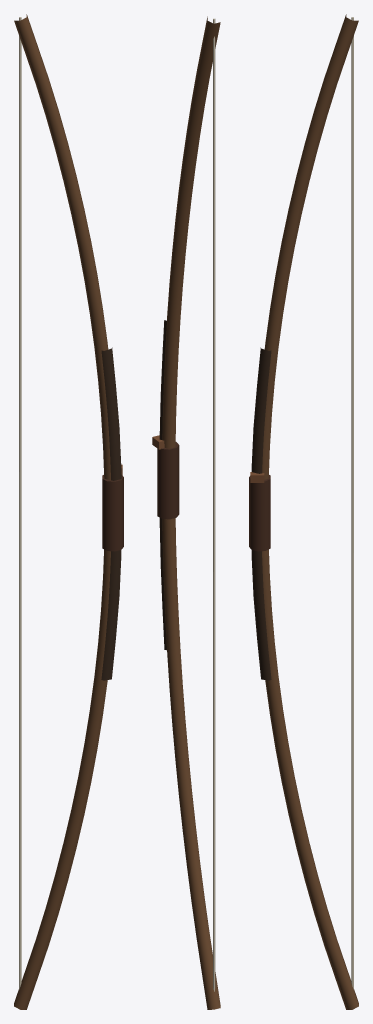
The model's file is longbow.glb.
3 views of the same model, side by side, from view 1: azimuth 90°, elevation 25°; view 2: azimuth 210°, elevation 25°; view 3: azimuth 270°, elevation 25° (orthographic).
Parts seen in each view (by area): view 1: longbow-limb, longbow-limb-belly, longbow-string, longbow-grip-wrap; view 2: longbow-limb, longbow-string, longbow-grip-wrap, longbow-limb-belly; view 3: longbow-limb, longbow-limb-belly, longbow-string, longbow-grip-wrap.
Part boxes in pixels (x1,y1,x2,y2): longbow-limb: (14, 14, 110, 1009); longbow-limb-belly: (101, 347, 121, 680); longbow-string: (19, 17, 21, 989); longbow-grip-wrap: (102, 475, 123, 551); longbow-limb: (162, 16, 220, 1009); longbow-string: (213, 18, 215, 991); longbow-grip-wrap: (157, 442, 179, 519); longbow-limb-belly: (159, 320, 178, 650); longbow-limb: (262, 14, 358, 1009); longbow-limb-belly: (251, 347, 271, 680); longbow-string: (351, 17, 353, 989); longbow-grip-wrap: (249, 475, 270, 551).
Bounding box in the file's own units: 0.0263 × 1.22 × 0.1222.
